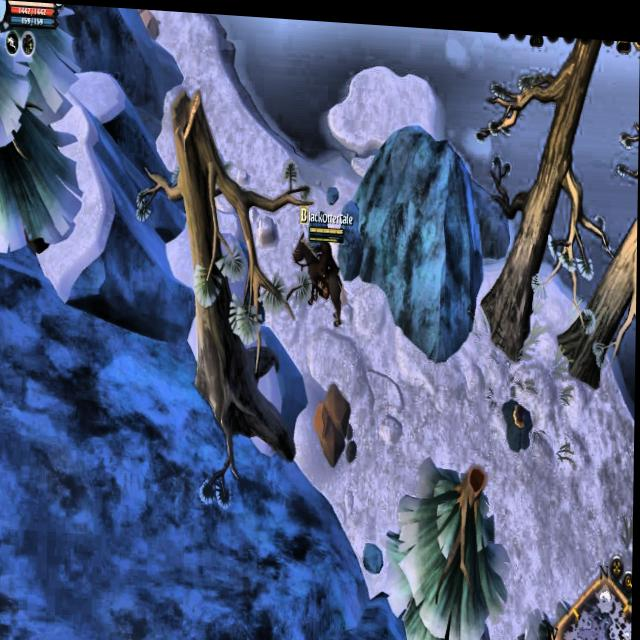copperore: (500, 386, 537, 445)
limestone: (312, 371, 358, 463), (130, 7, 164, 41)
